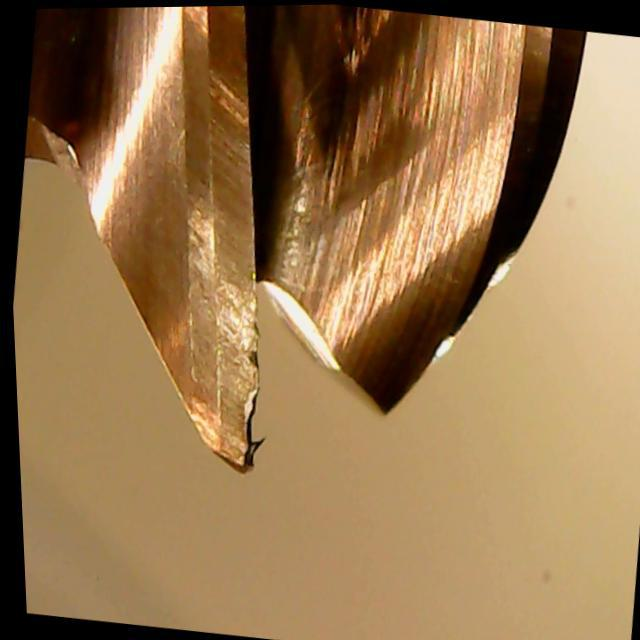Tool-wear-class-1: (145, 190, 298, 481)
